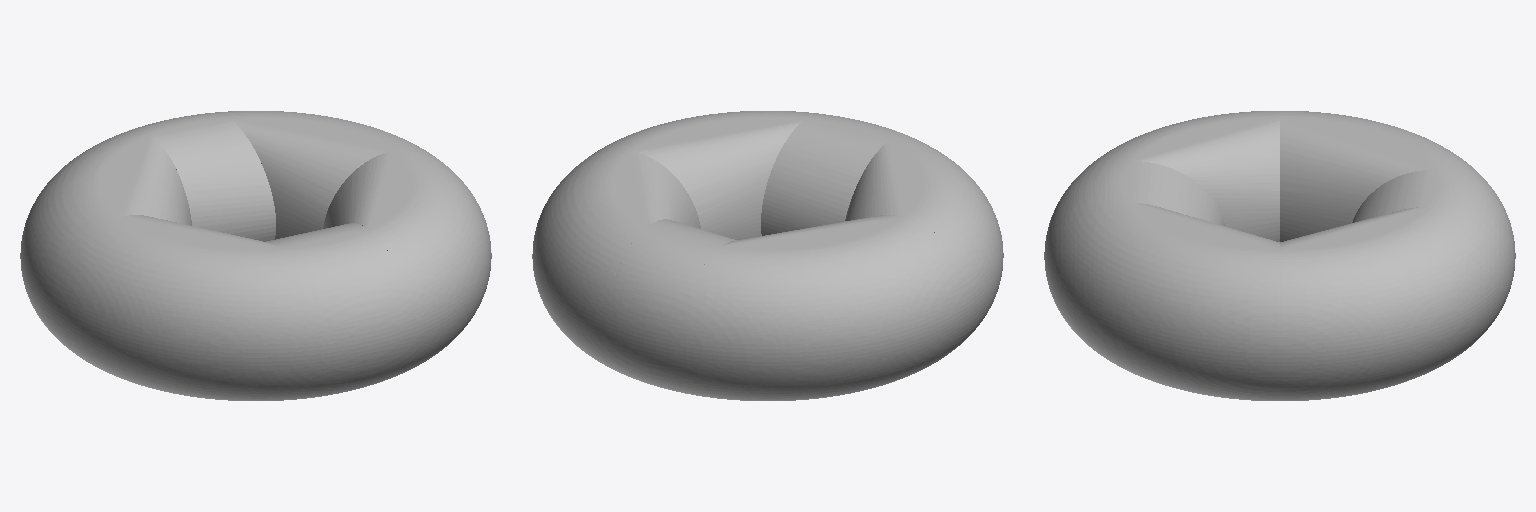
The robot description file, URDF, robot "root":
<robot name="root">
  <link name="object">
    <visual>
      <origin xyz="0 0 0" rpy="0 0 0"/>
      <geometry>
        <mesh filename="coacd_convex_piece_0.obj" scale="1.0000E+00 1.0000E+00 1.0000E+00"/>
      </geometry>
      <material name="">
        <color rgba="7.50E-01 7.50E-01 7.50E-01 1"/>
      </material>
    </visual>
    <collision>
      <origin xyz="0 0 0" rpy="0 0 0"/>
      <geometry>
        <mesh filename="coacd_convex_piece_0.obj" scale="1.0000E+00 1.0000E+00 1.0000E+00"/>
      </geometry>
    </collision>
    <visual>
      <origin xyz="0 0 0" rpy="0 0 0"/>
      <geometry>
        <mesh filename="coacd_convex_piece_1.obj" scale="1.0000E+00 1.0000E+00 1.0000E+00"/>
      </geometry>
      <material name="">
        <color rgba="7.50E-01 7.50E-01 7.50E-01 1"/>
      </material>
    </visual>
    <collision>
      <origin xyz="0 0 0" rpy="0 0 0"/>
      <geometry>
        <mesh filename="coacd_convex_piece_1.obj" scale="1.0000E+00 1.0000E+00 1.0000E+00"/>
      </geometry>
    </collision>
    <visual>
      <origin xyz="0 0 0" rpy="0 0 0"/>
      <geometry>
        <mesh filename="coacd_convex_piece_2.obj" scale="1.0000E+00 1.0000E+00 1.0000E+00"/>
      </geometry>
      <material name="">
        <color rgba="7.50E-01 7.50E-01 7.50E-01 1"/>
      </material>
    </visual>
    <collision>
      <origin xyz="0 0 0" rpy="0 0 0"/>
      <geometry>
        <mesh filename="coacd_convex_piece_2.obj" scale="1.0000E+00 1.0000E+00 1.0000E+00"/>
      </geometry>
    </collision>
    <visual>
      <origin xyz="0 0 0" rpy="0 0 0"/>
      <geometry>
        <mesh filename="coacd_convex_piece_3.obj" scale="1.0000E+00 1.0000E+00 1.0000E+00"/>
      </geometry>
      <material name="">
        <color rgba="7.50E-01 7.50E-01 7.50E-01 1"/>
      </material>
    </visual>
    <collision>
      <origin xyz="0 0 0" rpy="0 0 0"/>
      <geometry>
        <mesh filename="coacd_convex_piece_3.obj" scale="1.0000E+00 1.0000E+00 1.0000E+00"/>
      </geometry>
    </collision>
    <visual>
      <origin xyz="0 0 0" rpy="0 0 0"/>
      <geometry>
        <mesh filename="coacd_convex_piece_4.obj" scale="1.0000E+00 1.0000E+00 1.0000E+00"/>
      </geometry>
      <material name="">
        <color rgba="7.50E-01 7.50E-01 7.50E-01 1"/>
      </material>
    </visual>
    <collision>
      <origin xyz="0 0 0" rpy="0 0 0"/>
      <geometry>
        <mesh filename="coacd_convex_piece_4.obj" scale="1.0000E+00 1.0000E+00 1.0000E+00"/>
      </geometry>
    </collision>
    <visual>
      <origin xyz="0 0 0" rpy="0 0 0"/>
      <geometry>
        <mesh filename="coacd_convex_piece_5.obj" scale="1.0000E+00 1.0000E+00 1.0000E+00"/>
      </geometry>
      <material name="">
        <color rgba="7.50E-01 7.50E-01 7.50E-01 1"/>
      </material>
    </visual>
    <collision>
      <origin xyz="0 0 0" rpy="0 0 0"/>
      <geometry>
        <mesh filename="coacd_convex_piece_5.obj" scale="1.0000E+00 1.0000E+00 1.0000E+00"/>
      </geometry>
    </collision>
  </link>
</robot>

--- What the picture shows (computed from the rendered views, not written in the file) ---
Views: 3 orthographic renders of the robot side by side, from view 1: azimuth 30°, elevation 25°; view 2: azimuth 150°, elevation 25°; view 3: azimuth 270°, elevation 25°.
Model root with 1 links and 0 joints (none), rooted at object, posed all joints at 0.
Visible links, largest first — view 1: object; view 2: object; view 3: object.
Boxes of the visible links, box(x1,y1,x2,y2) form: object: box(20, 111, 491, 400); object: box(532, 111, 1003, 400); object: box(1044, 111, 1515, 400).
Size in the robot's own frame: 0.081 by 0.081 by 0.0273 metres.
6 mesh visuals loaded from 6 distinct referenced files (6 OBJ).
